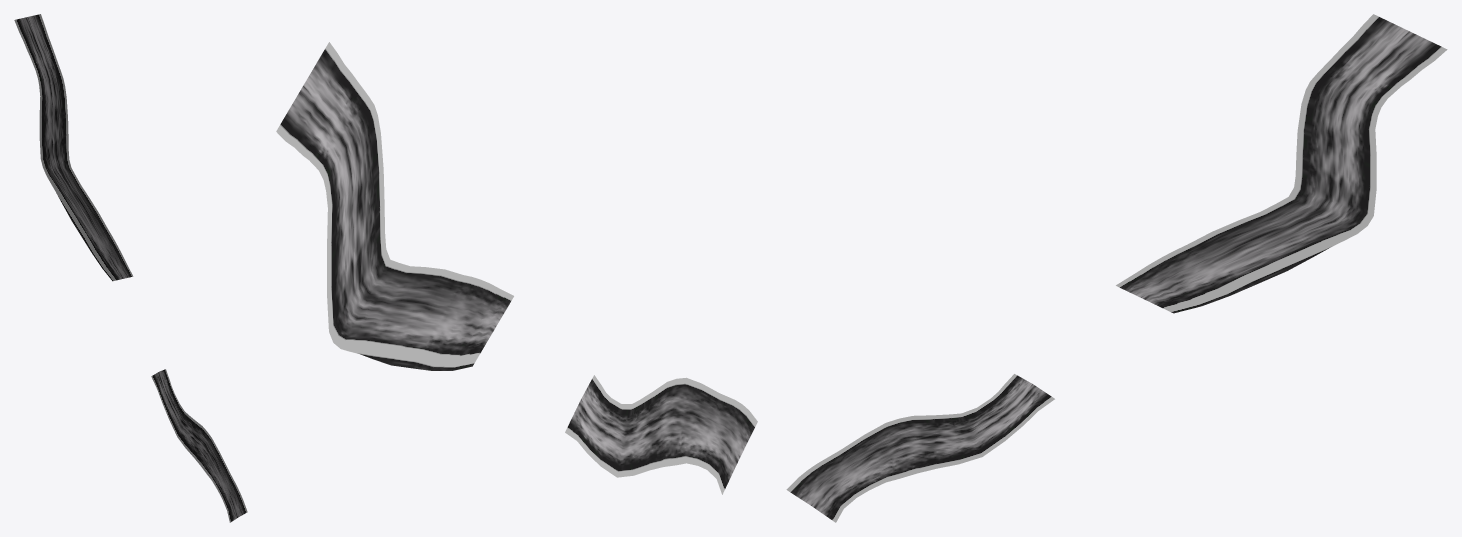
Rendered from shuipian02.FBX.
The picture shows the model from 3 angles, left to right: view 1: azimuth 30°, elevation 25°; view 2: azimuth 150°, elevation 25°; view 3: azimuth 270°, elevation 25°; orthographic projection. The views are drawn at different scales.
Visible parts, largest first — view 1: shuipian02; view 2: shuipian02; view 3: shuipian02.
Boxes of the visible parts, box(x1,y1,x2,y2) form: shuipian02: box(14, 14, 247, 522); shuipian02: box(276, 42, 757, 494); shuipian02: box(786, 14, 1447, 522).
Size of the model in its own units: 0.8251 by 77.62 by 90.94.
1 material, 1 textured.
